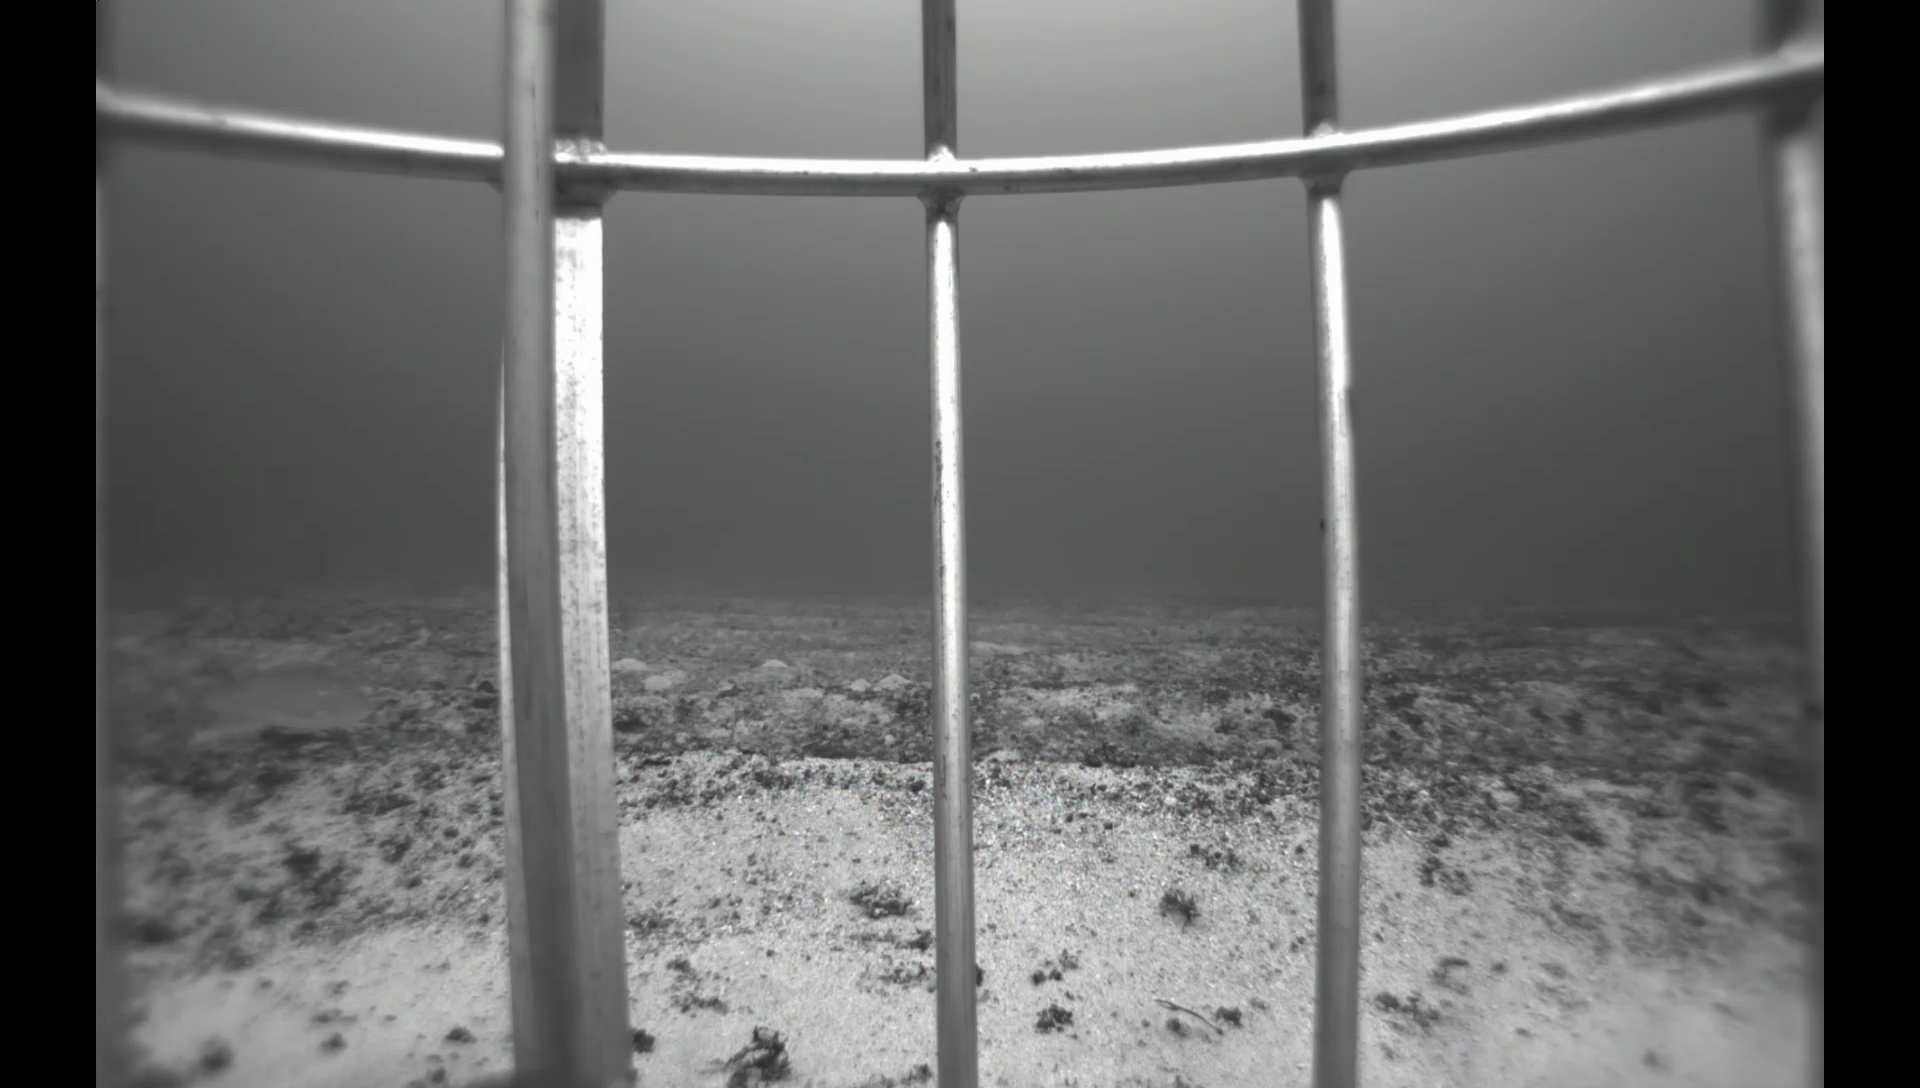CALAMUSPRORIDENS-170210605: (132, 640, 382, 756)
